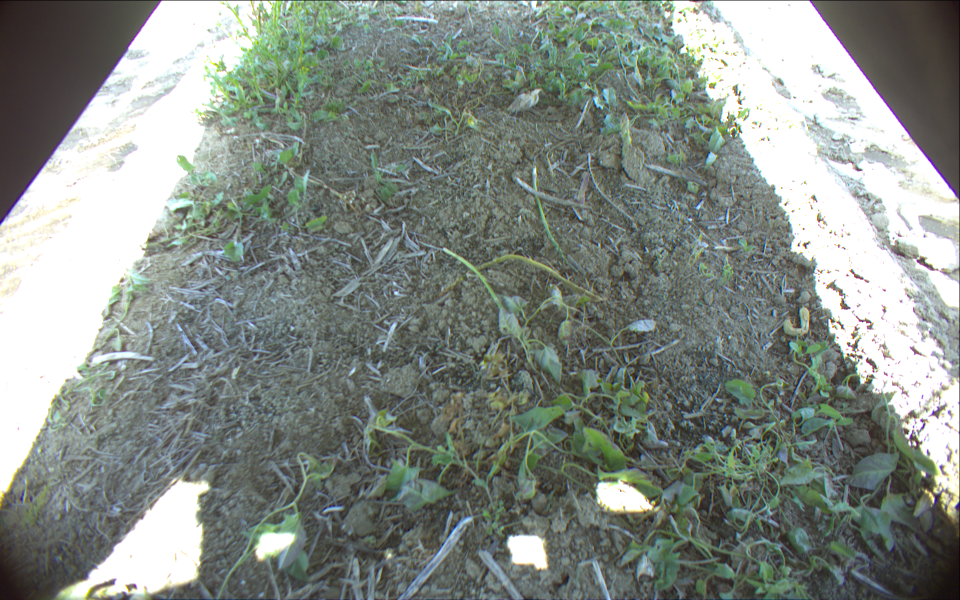aspa: (471, 253, 603, 302), (441, 248, 504, 311), (530, 167, 562, 254)
